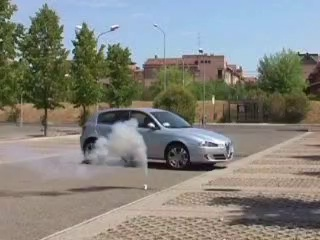smoke: (1, 116, 149, 182)
